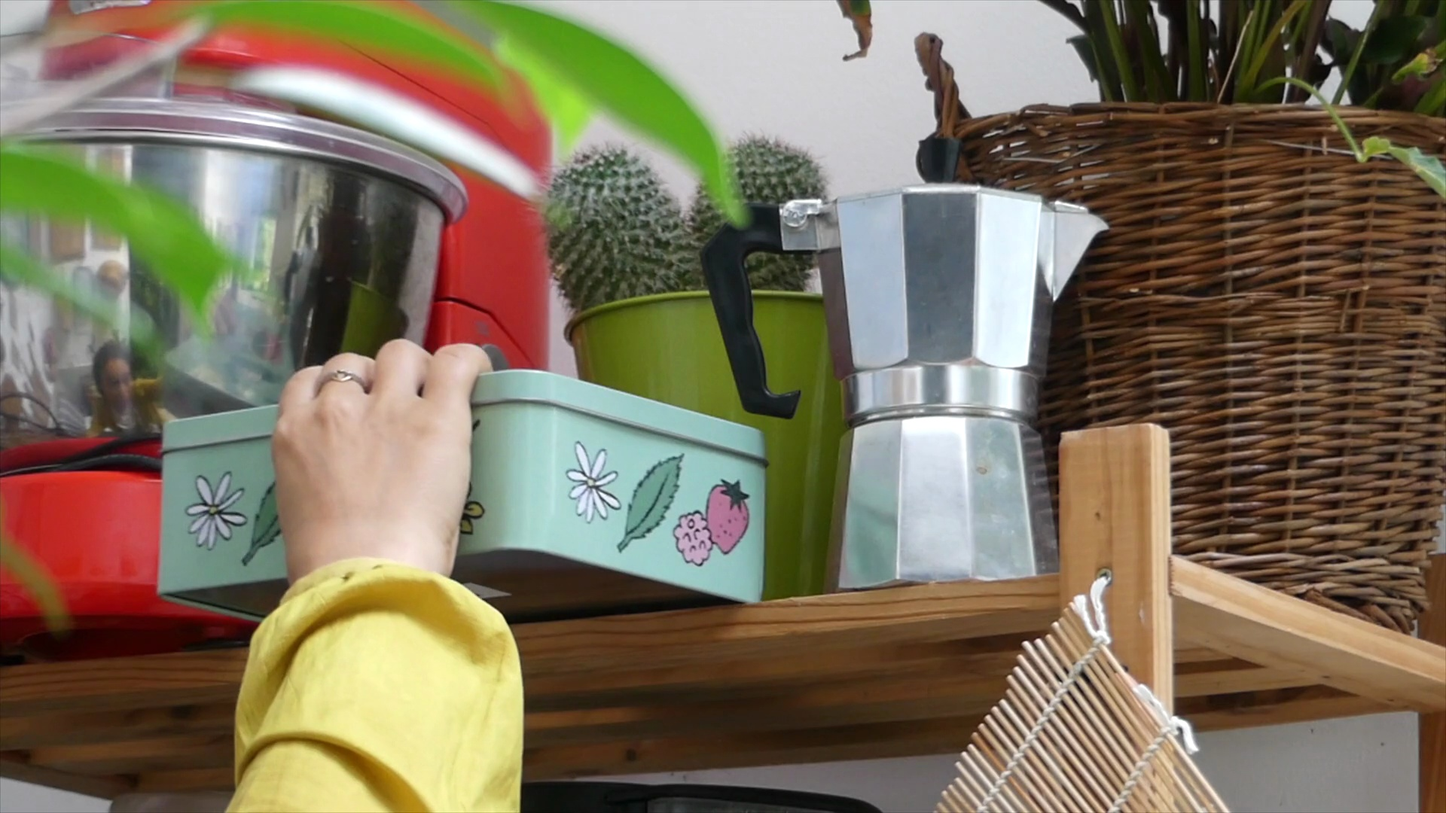dallah: (106, 217, 681, 813)
dates_box: (713, 185, 981, 407)
electronics: (462, 213, 1150, 813), (901, 0, 1446, 745), (1, 124, 357, 813), (807, 393, 1194, 813), (0, 395, 286, 813), (152, 392, 315, 630)
perfume_bottle: (0, 0, 644, 506), (714, 185, 852, 427)
watch: (0, 85, 692, 813), (0, 102, 508, 813), (117, 72, 666, 718), (848, 0, 1384, 580), (955, 262, 1445, 813), (748, 0, 1240, 433), (1101, 342, 1446, 813), (882, 584, 1276, 813), (916, 594, 1200, 813), (930, 639, 1279, 813), (891, 750, 1055, 813)
